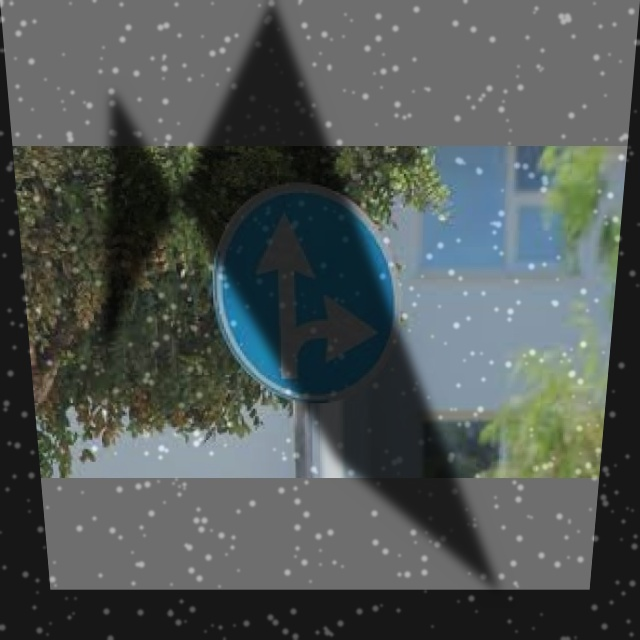Compulsory_Ahead_or_Turn_Right: (212, 183, 403, 407)
